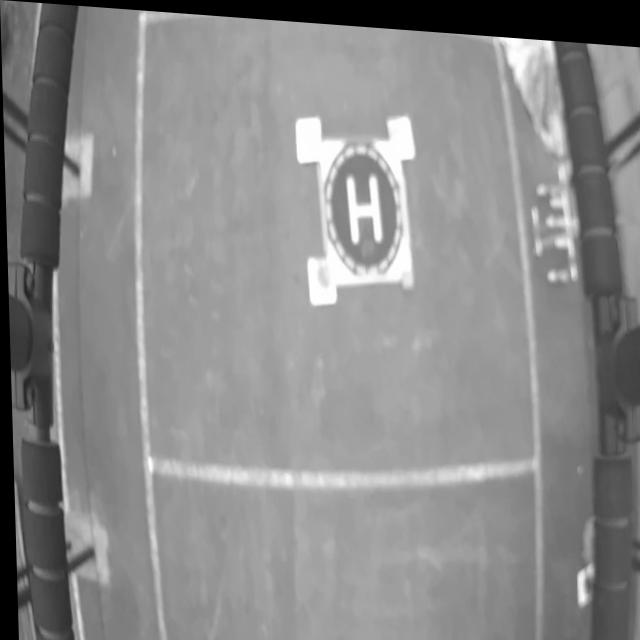Helipad: (345, 169, 382, 240)
